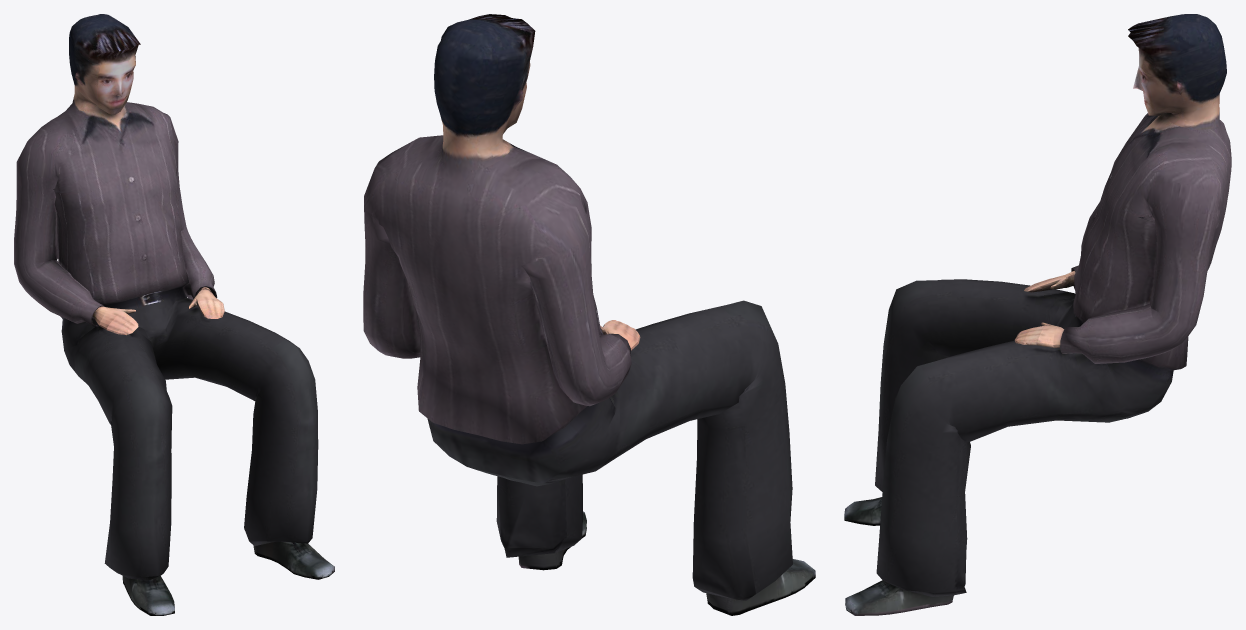
Rendered from BoySitter2.FBX.
The picture shows the model from 3 angles, left to right: view 1: azimuth 30°, elevation 25°; view 2: azimuth 150°, elevation 25°; view 3: azimuth 270°, elevation 25°; orthographic projection. The views are drawn at different scales.
Visible parts, largest first — view 1: SBP_01_02; view 2: SBP_01_02; view 3: SBP_01_02.
Boxes of the visible parts, bbox=[...] form: SBP_01_02: bbox=[14, 14, 334, 615]; SBP_01_02: bbox=[363, 14, 815, 615]; SBP_01_02: bbox=[844, 14, 1231, 615].
Size of the model in its own units: 23.18 by 52.4 by 33.65.
Materials: 1 (1 with a texture image).
